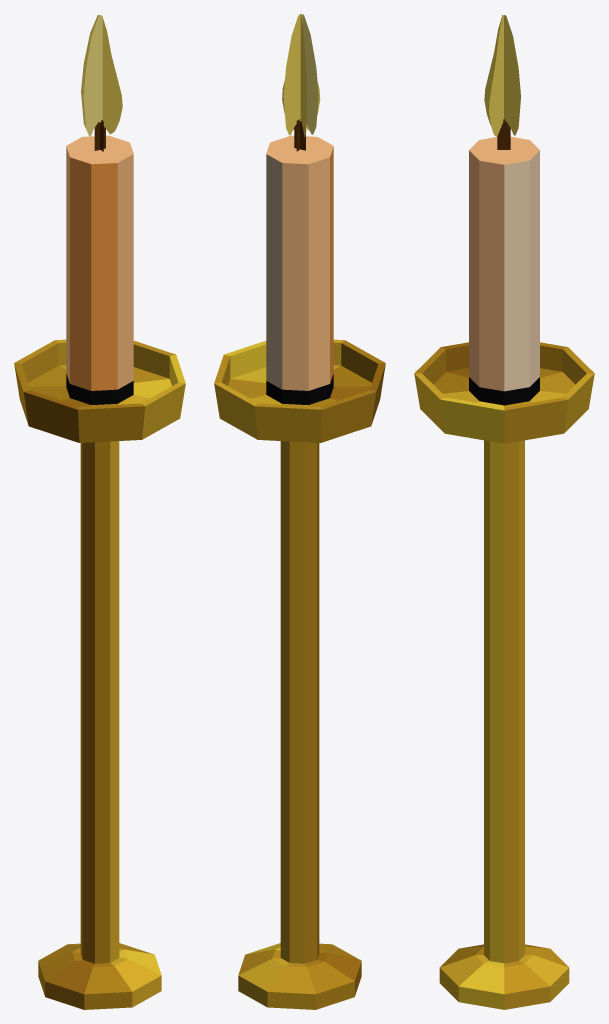
File: candle_338x13.gltf
3 renders of one model, left to right at view 1: azimuth 30°, elevation 25°; view 2: azimuth 150°, elevation 25°; view 3: azimuth 270°, elevation 25°, orthographic.
Visible parts, largest first — view 1: candle_338x13; view 2: candle_338x13; view 3: candle_338x13.
Boxes of the visible parts, <box> form: candle_338x13: <box>14,15,185,1009</box>; candle_338x13: <box>214,14,385,1009</box>; candle_338x13: <box>414,15,594,1009</box>.
Size of the model in its own units: 0.3725 by 2.26 by 0.3821.
1 material, 1 textured.
